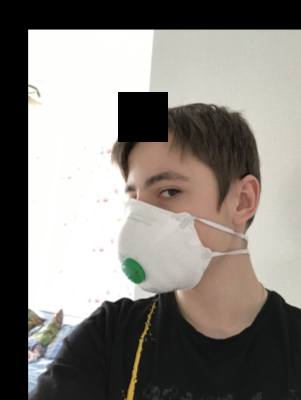with_mask: (116, 150, 205, 293)
